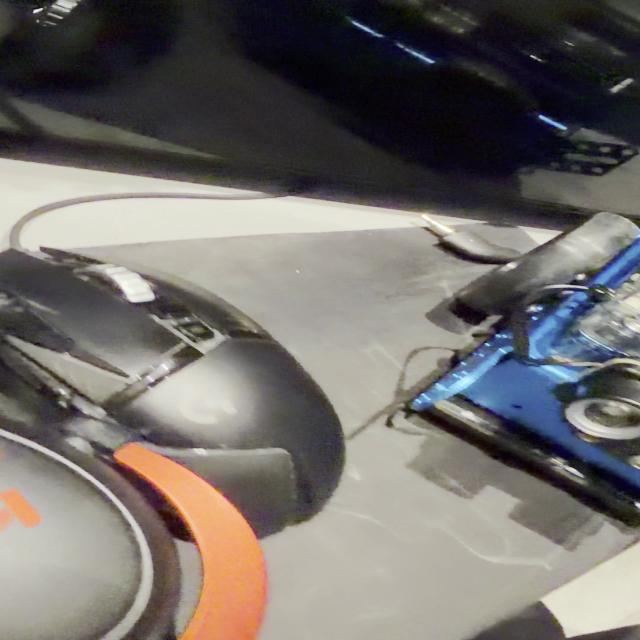mbot-detection: (394, 205, 640, 543)
